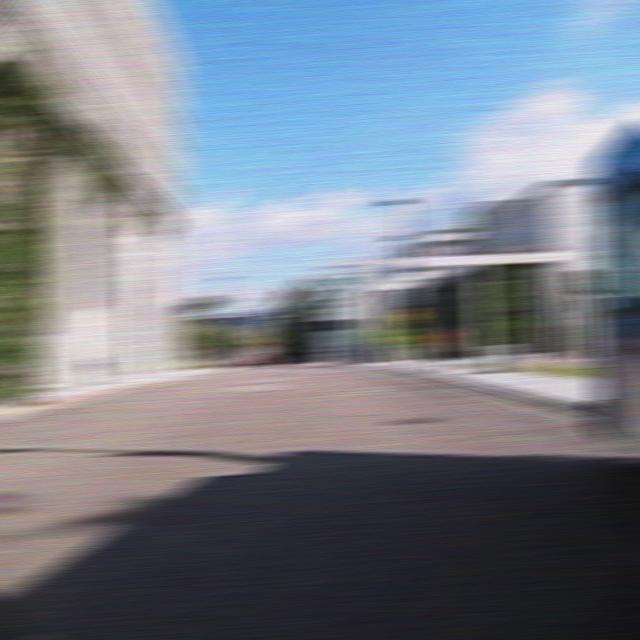pedestrianCrossing: (396, 306, 423, 326)
